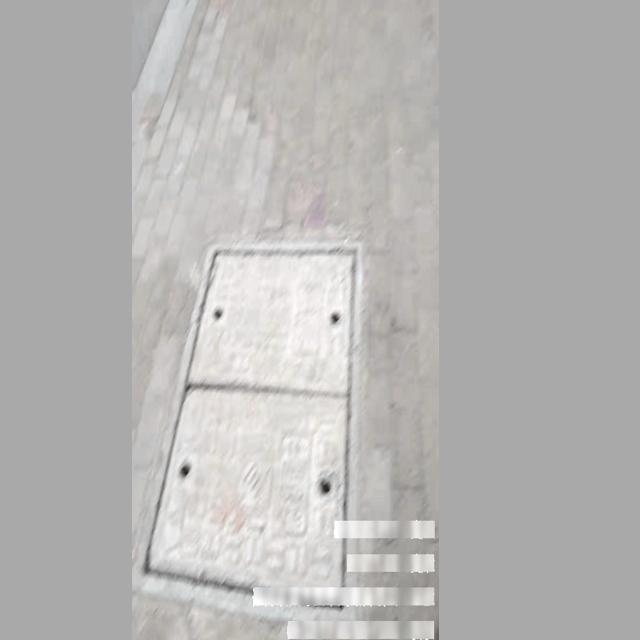good: (133, 237, 363, 627)
